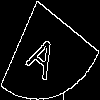A: (24, 25, 65, 82)
